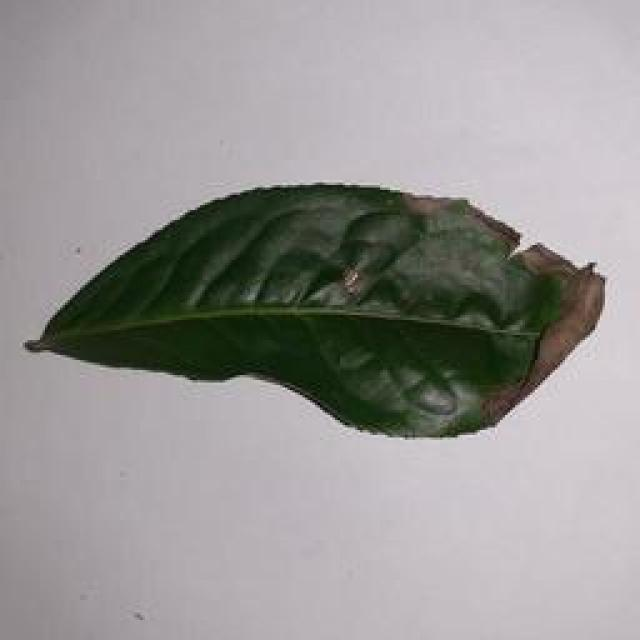Brown Blight: (18, 166, 623, 461)
